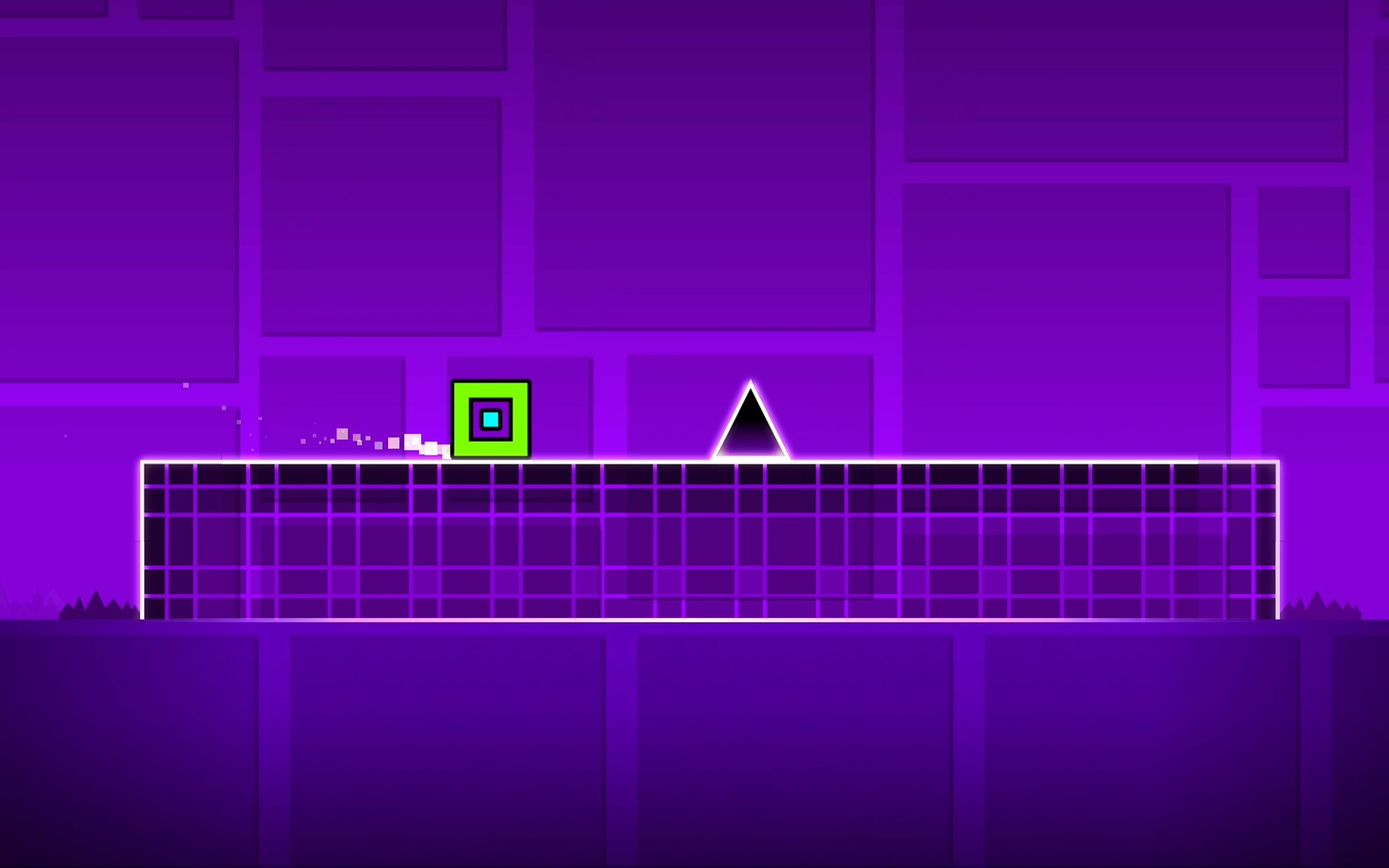Block2: (133, 456, 1280, 612)
Player: (449, 380, 530, 457)
Spike: (712, 380, 788, 457)
Spike3: (1, 578, 140, 621), (1279, 582, 1388, 619)
